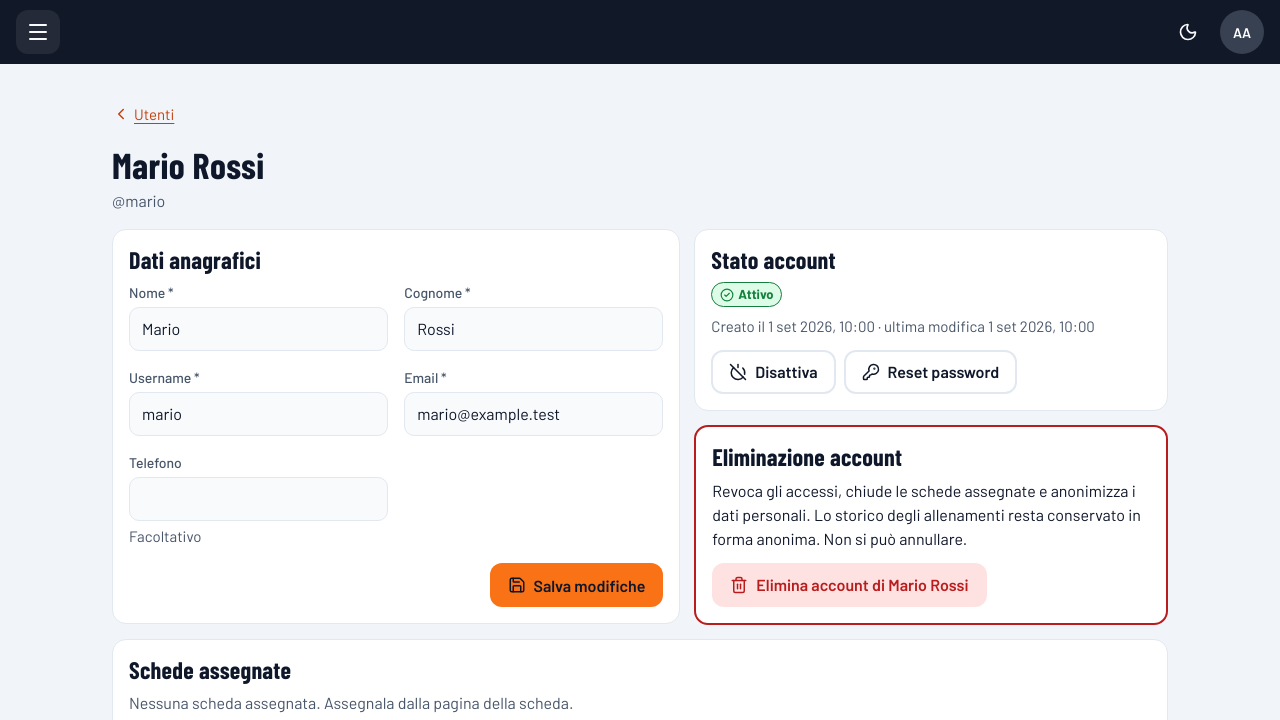
Test: user detail › deletes an account only after two distinct confirmations and returns to the list
Click the button "Elimina account di Mario Rossi" at coordinates (849, 585), box [712,563,986,607]
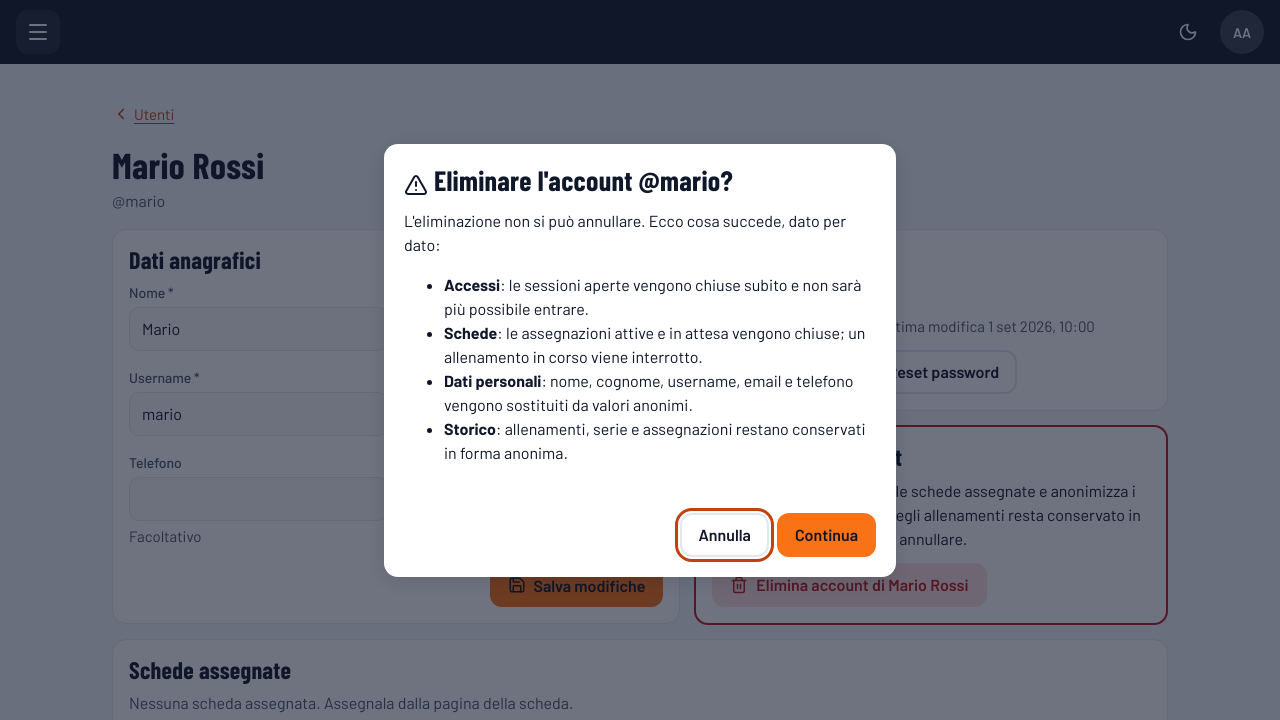
Now the dialog "Eliminare l'account @mario?" shows "Storico: allenamenti, serie e assegnazioni restano conservati in forma anonima.", box [384,144,896,576]
Click the button "Continua" at coordinates (826, 534), box [777,512,876,556]
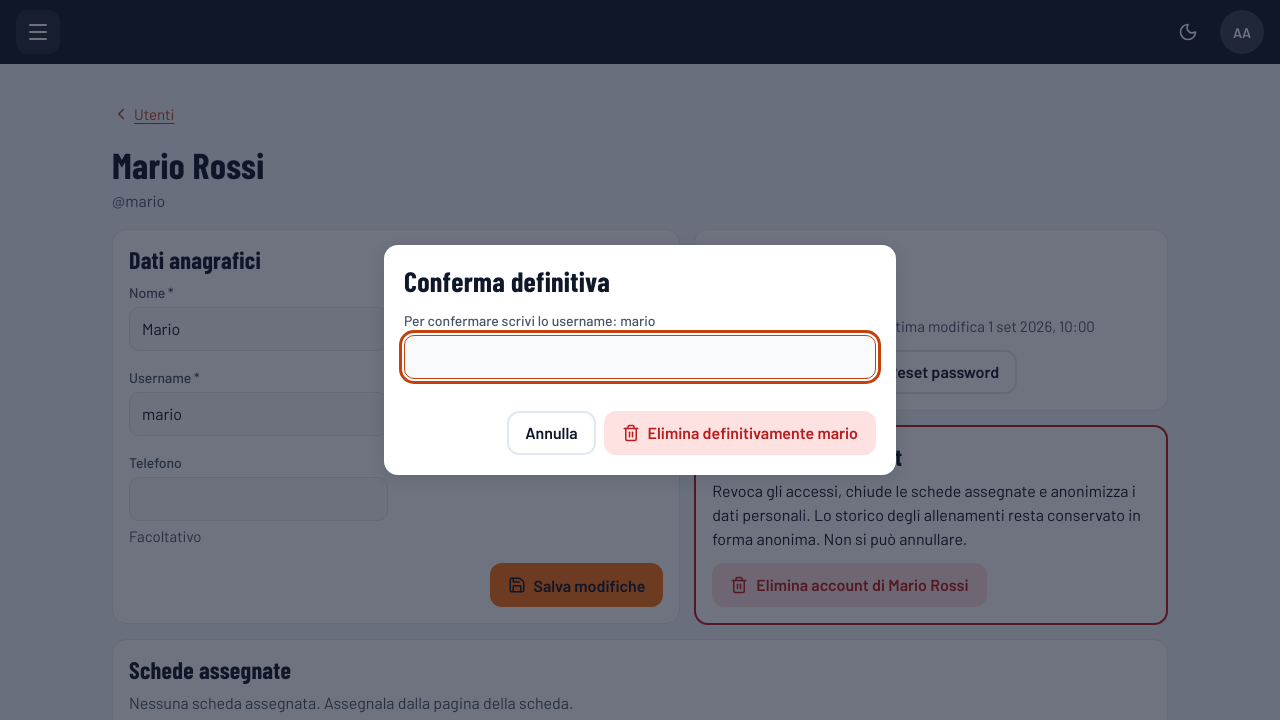
Click the button "Elimina definitivamente mario" at coordinates (740, 433), box [604,411,876,455]
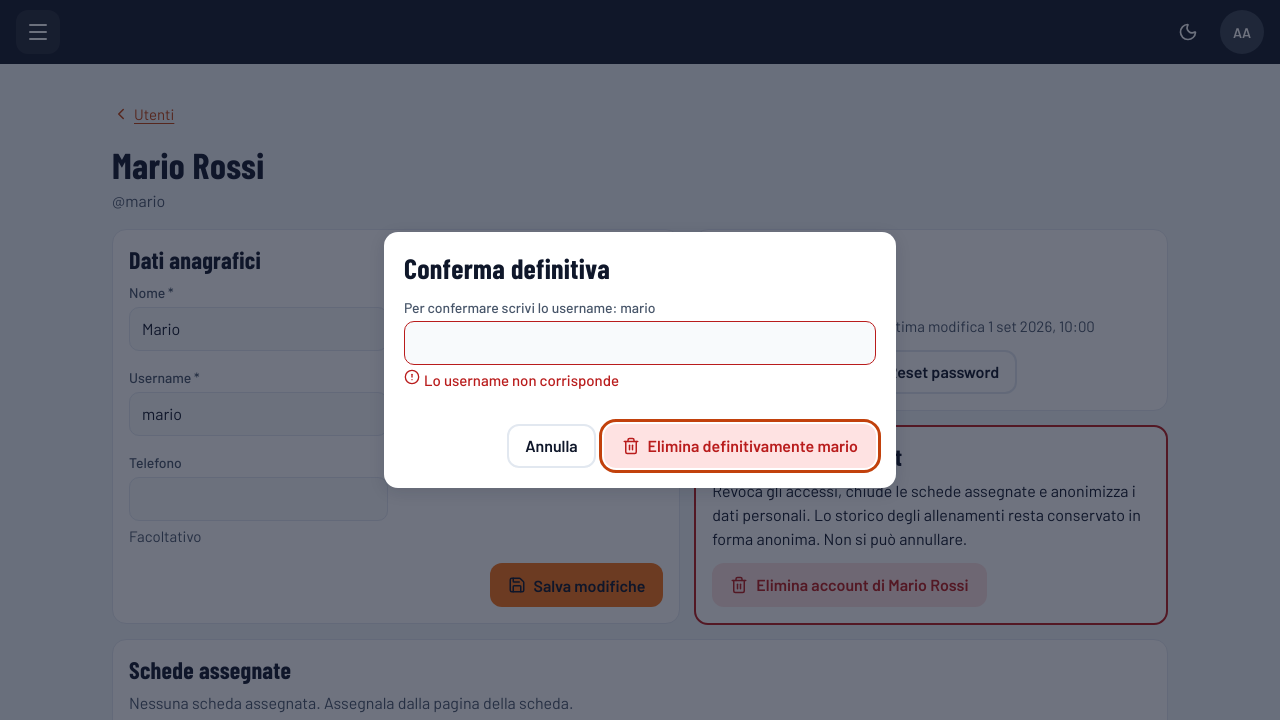
Now the text "Lo username non corrisponde" is shown, box [404,369,619,389]
Type "mario" into the field labelled "Per confermare scrivi lo username: mario" at coordinates (640, 343), box [404,321,876,365]
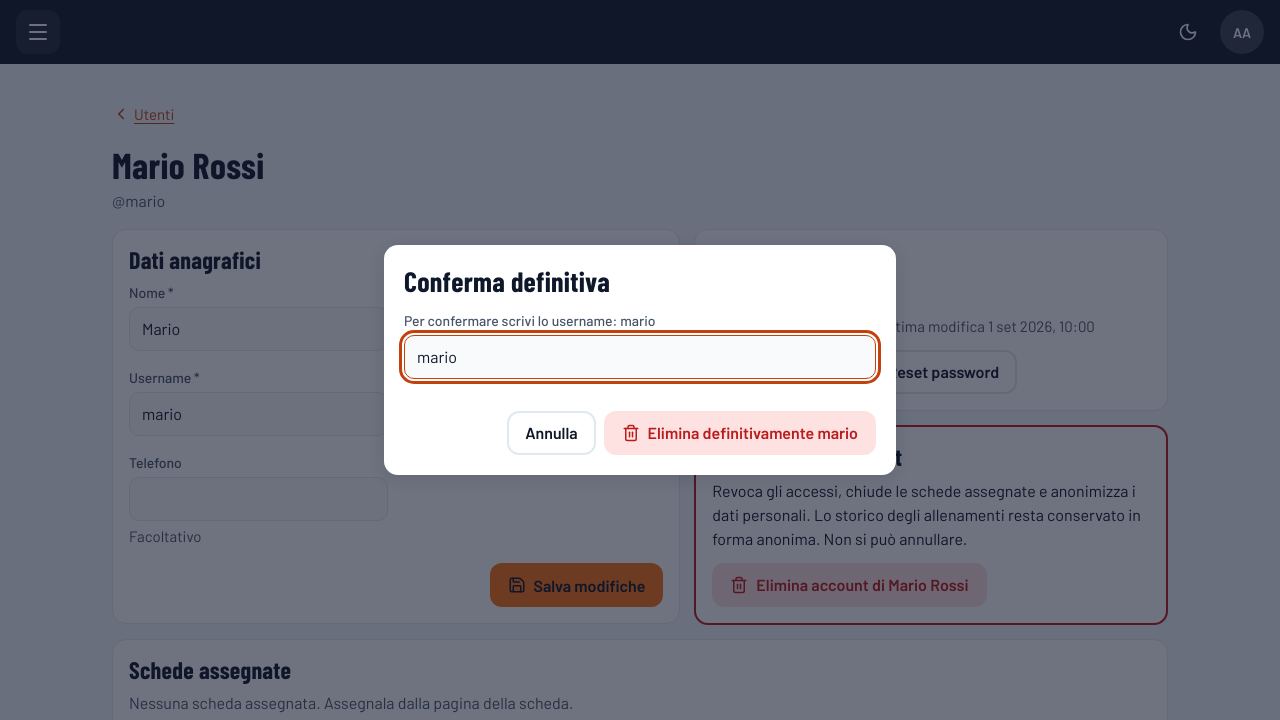
Click the button "Elimina definitivamente mario" at coordinates (740, 433), box [604,411,876,455]
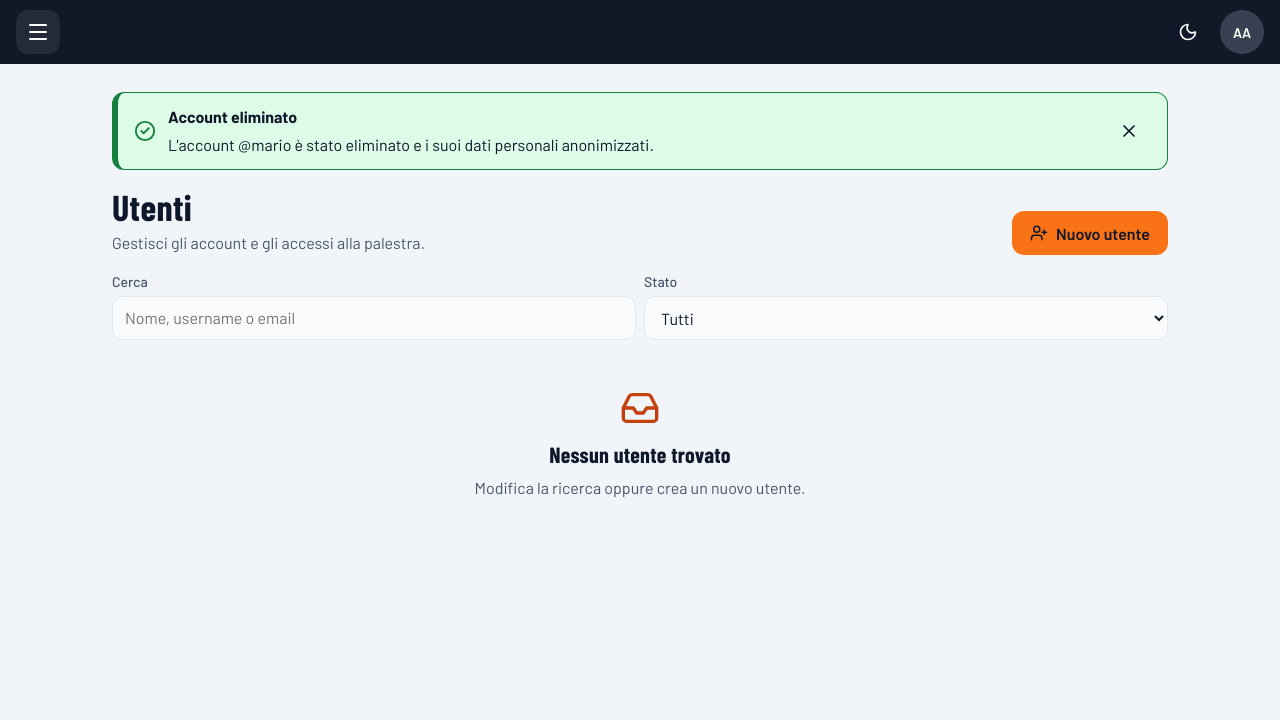
Now the text "Account eliminato" is shown, box [168,107,297,126]
